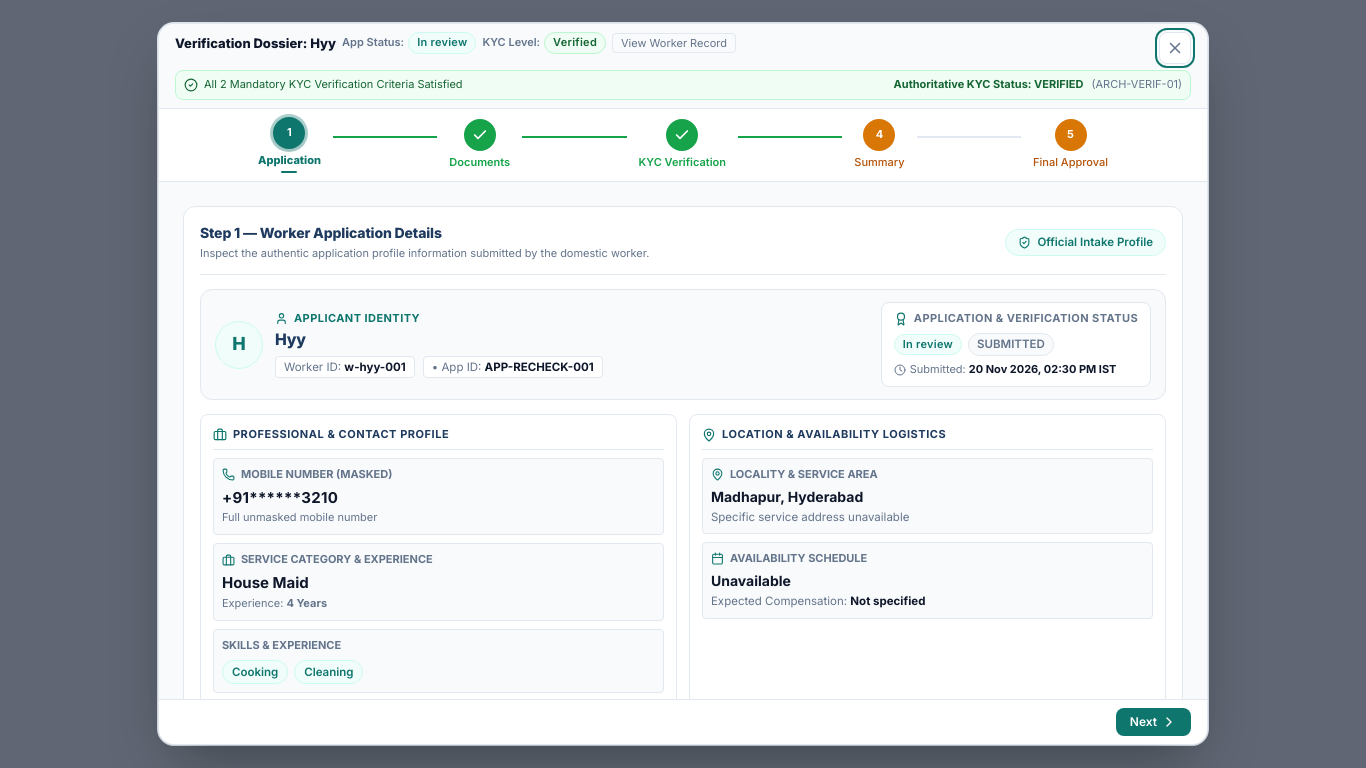
Test: Simplified KYC Verification Page & Document Re-verification › 3. Employer Reference & Commercial / Driving License Button Eligibility & Workflows › renders Not Required without disabled Approve/Reject buttons when optional Employer Reference and License are NOT_SUBMITTED
Click the element with test id "step-bubble-3".
click(682, 145)  # box [638,119,726,171]
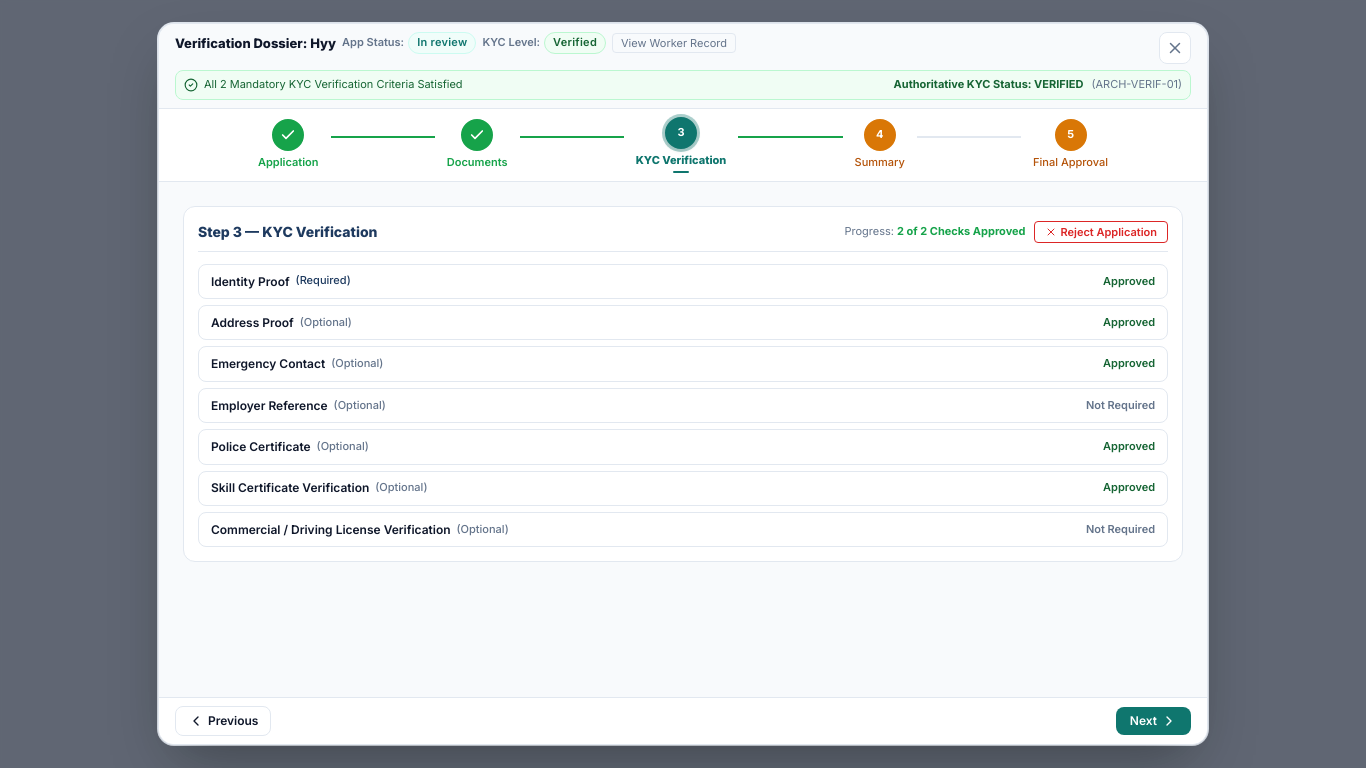
expect the text "2 of 2 Checks Approved" is shown: met, box [897,224,1026,238]
expect the text with test id "check-requirement-IDENTITY" reads "(Required)": met, box [296,274,351,288]
expect the text with test id "check-requirement-REFERENCE" reads "(Optional)": met, box [334,398,386,412]
